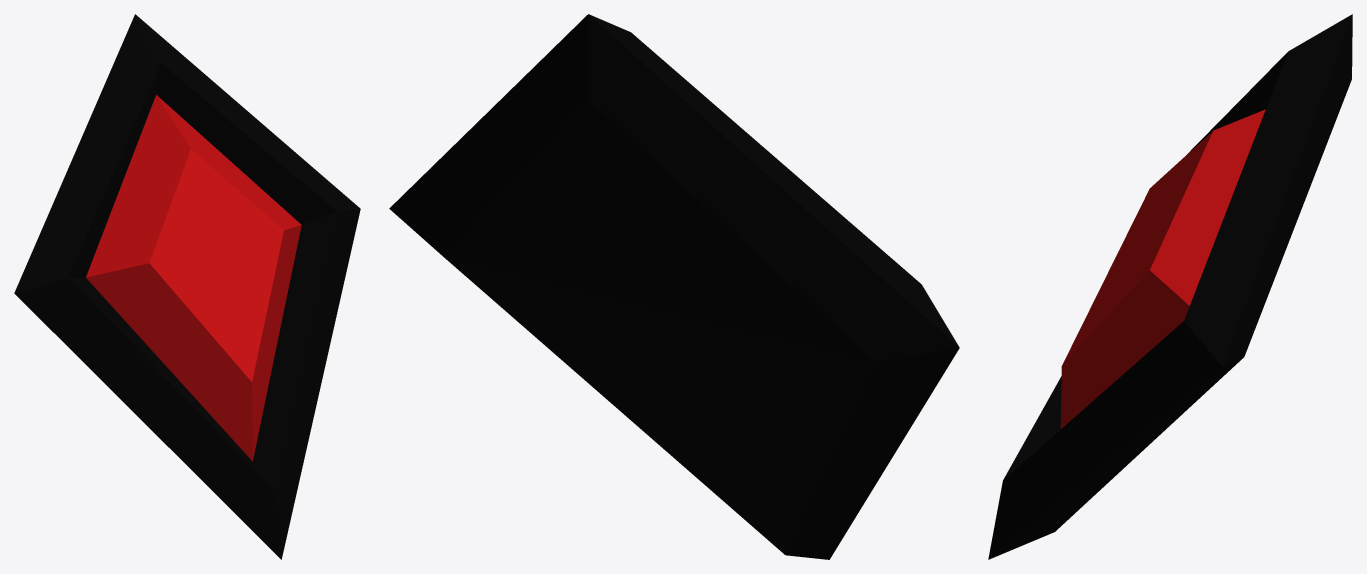
The model's file is jewel_1.fbx.
3 views of the same model, side by side, from view 1: azimuth 30°, elevation 25°; view 2: azimuth 150°, elevation 25°; view 3: azimuth 270°, elevation 25° (orthographic). The views are drawn at different scales.
Parts seen in each view (by area): view 1: Jewel_1; view 2: Jewel_1; view 3: Jewel_1.
Part boxes in pixels (x1,y1,x2,y2): Jewel_1: [14, 14, 360, 559]; Jewel_1: [389, 14, 959, 559]; Jewel_1: [988, 14, 1352, 559].
Bounding box in the file's own units: 25.71 × 31.11 × 18.82.
1 material, 1 textured.
